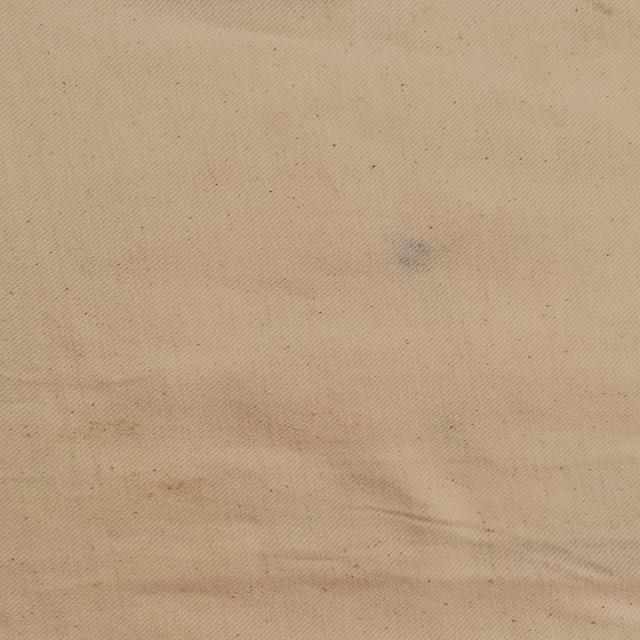taaaches: (383, 225, 465, 292), (62, 403, 175, 448), (144, 470, 218, 504)
